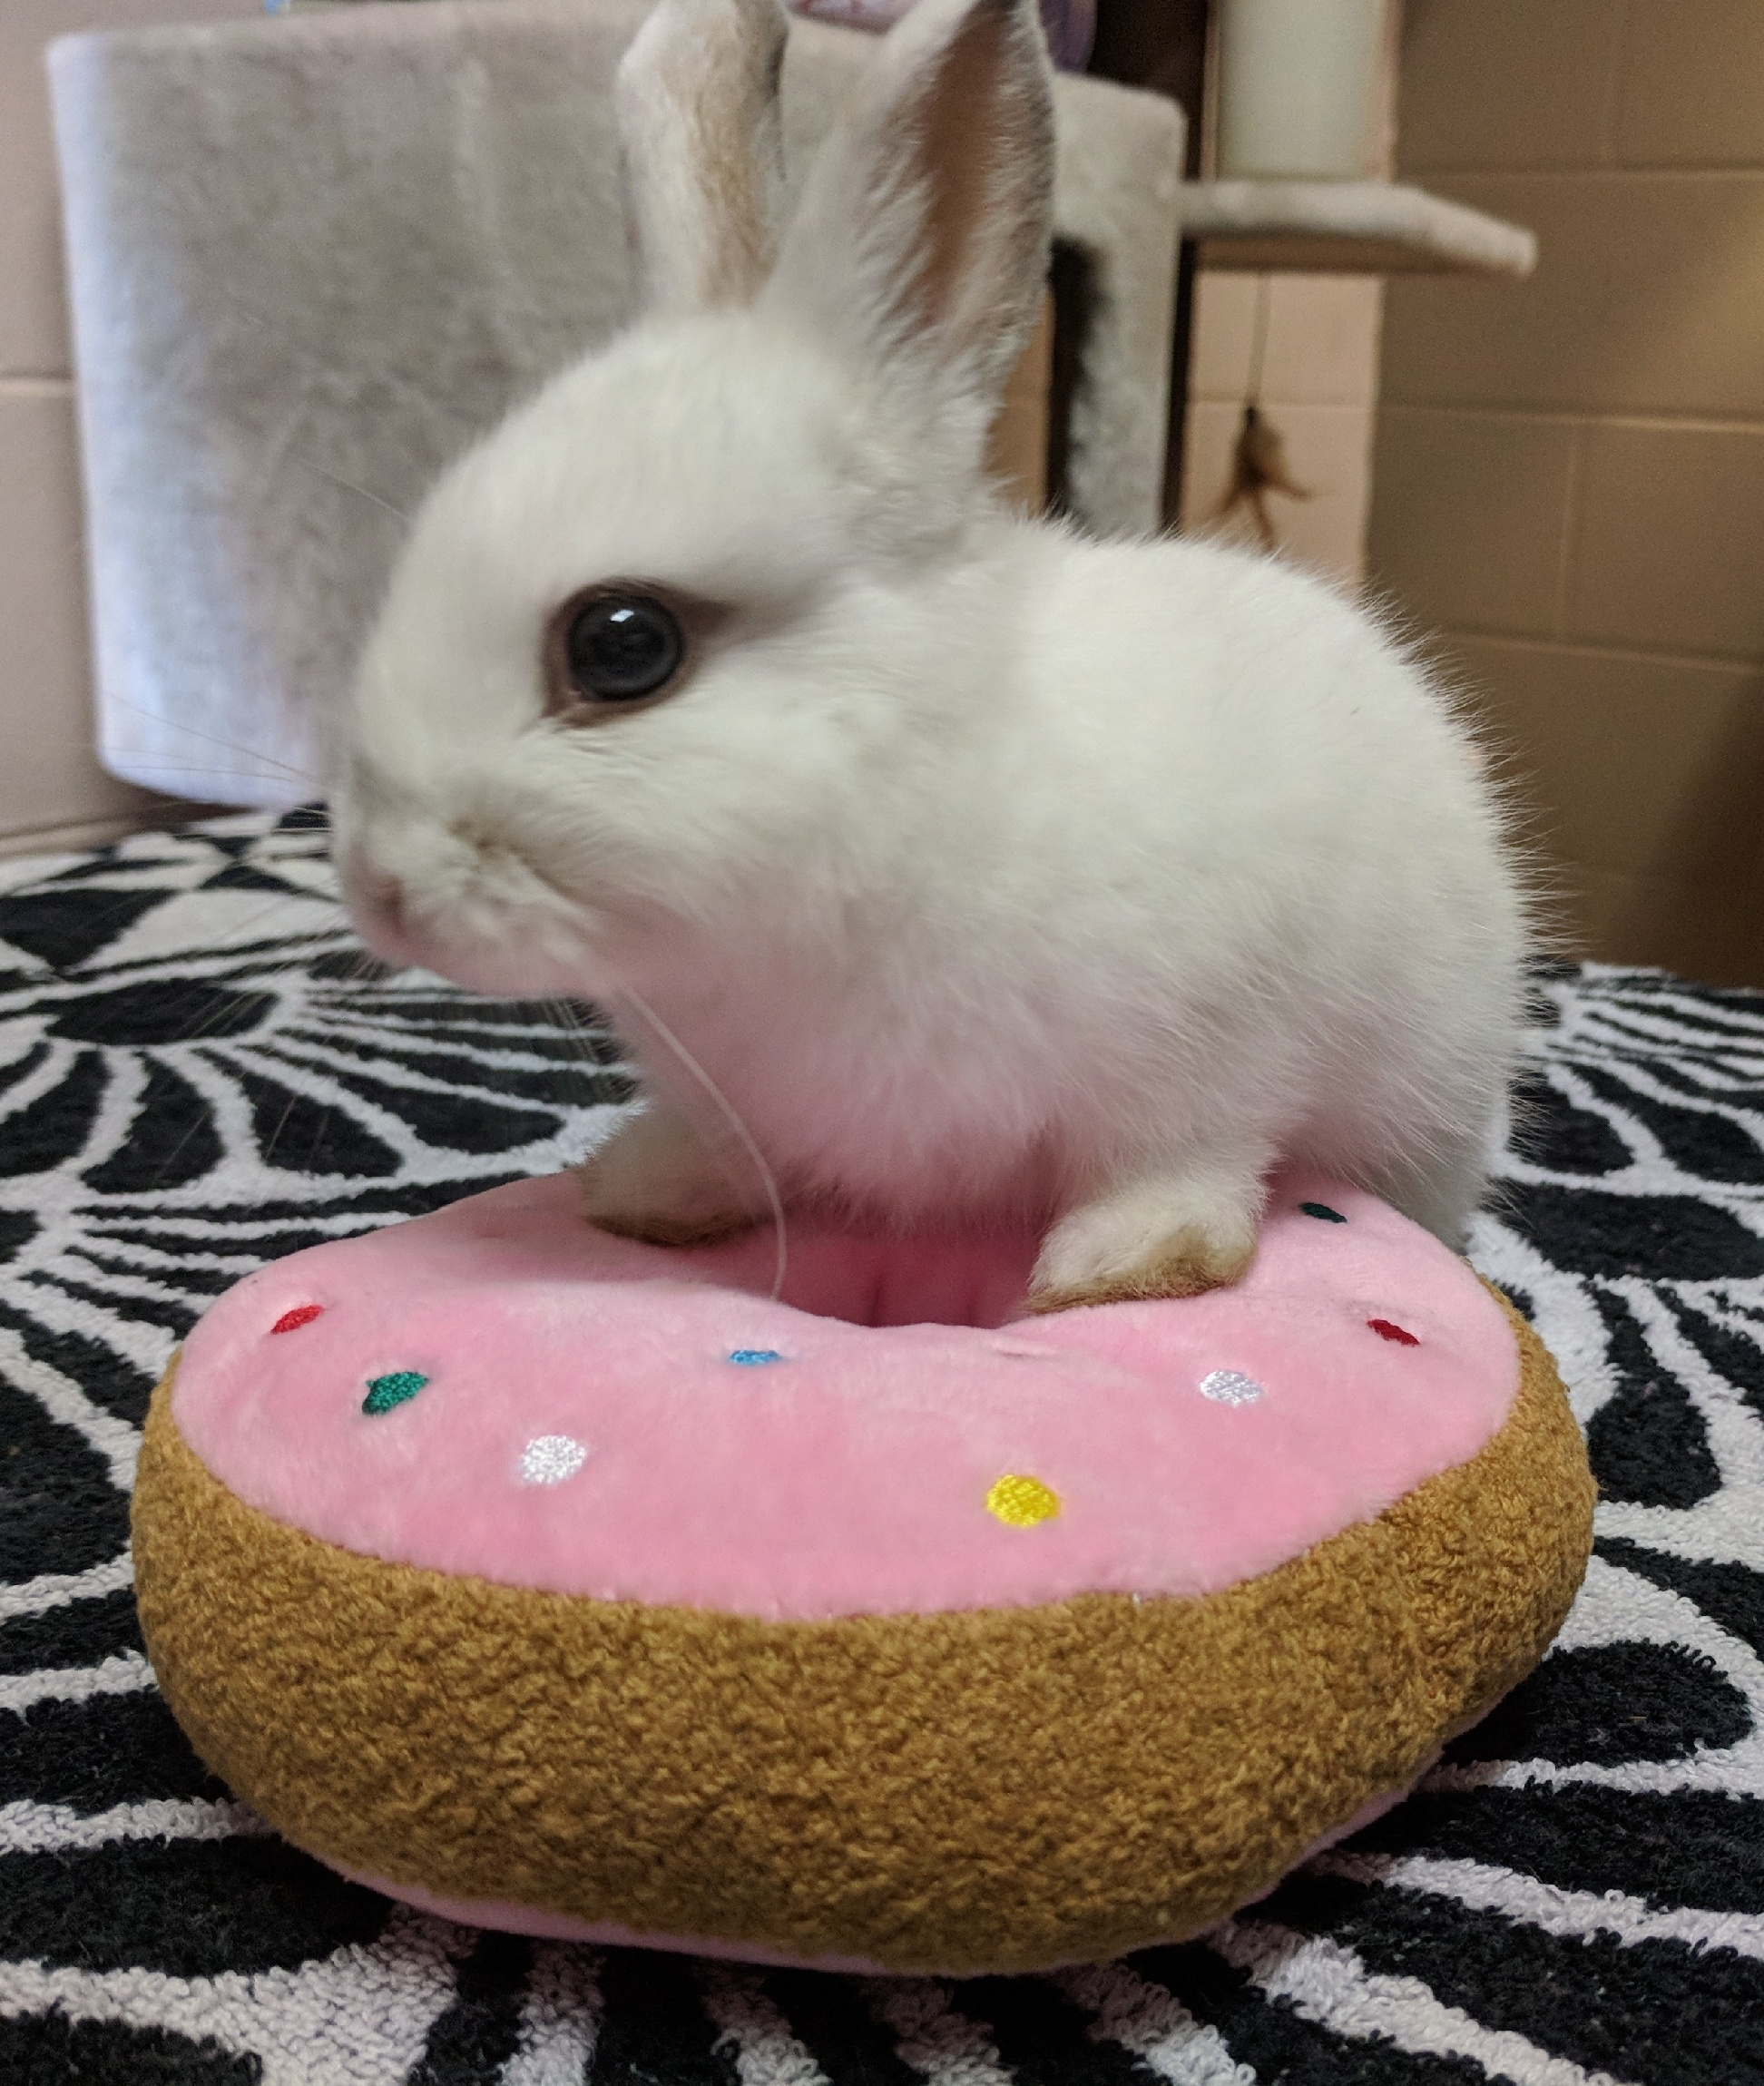bunny: (124, 2, 1701, 1318)
